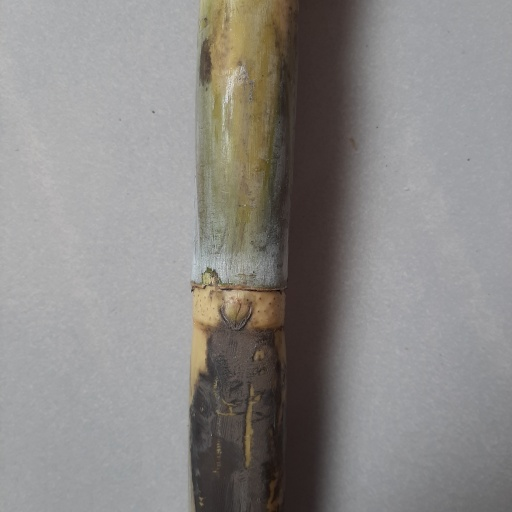Bud: (218, 293, 253, 332)
